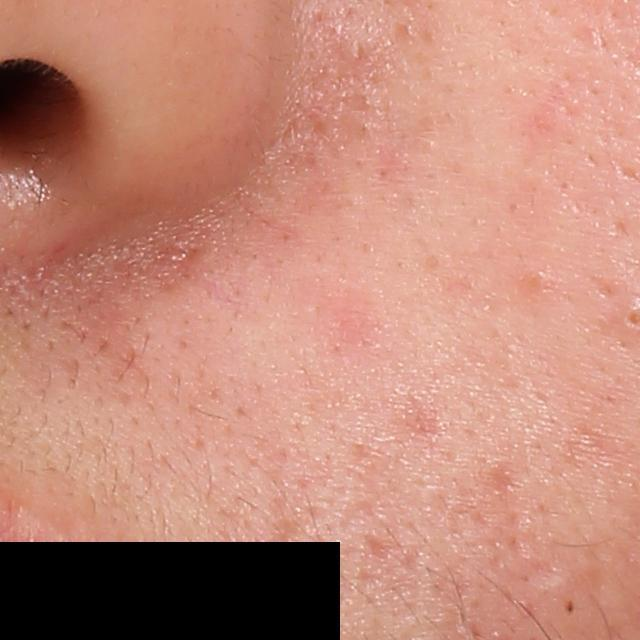atrophic_scar: (362, 533, 391, 563)
